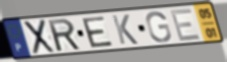E: (168, 7, 203, 43), (80, 15, 115, 49)
G: (144, 11, 173, 44)
K: (110, 13, 140, 46)
R: (46, 17, 83, 53)
X: (23, 18, 57, 56)
